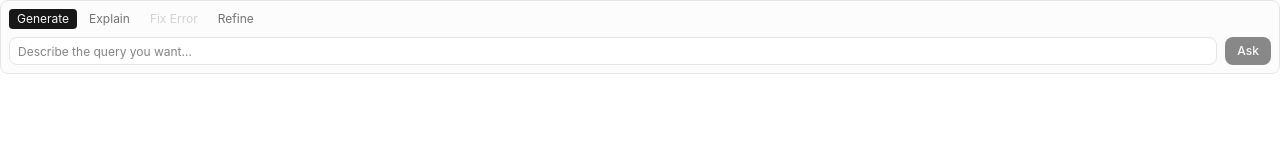
AiPromptBar — prompt input (generate/refine modes) › shows refine placeholder when in refine mode
Click the button "refine" at (236, 19), box left=210, top=9, right=262, bottom=29
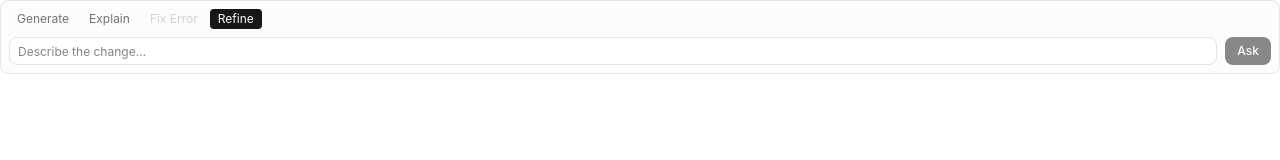
Result: the field with placeholder "Describe the change…" is shown at left=9, top=37, right=1217, bottom=65
